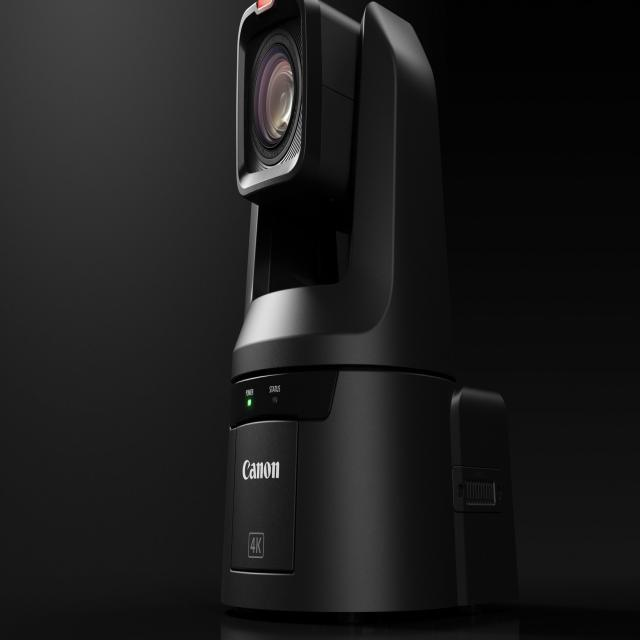hidden camera: (235, 20, 316, 186)
